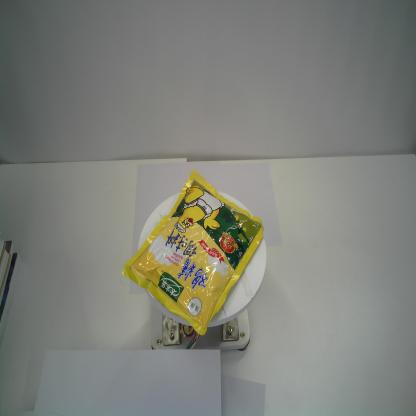Seasoner: (120, 168, 265, 335)
